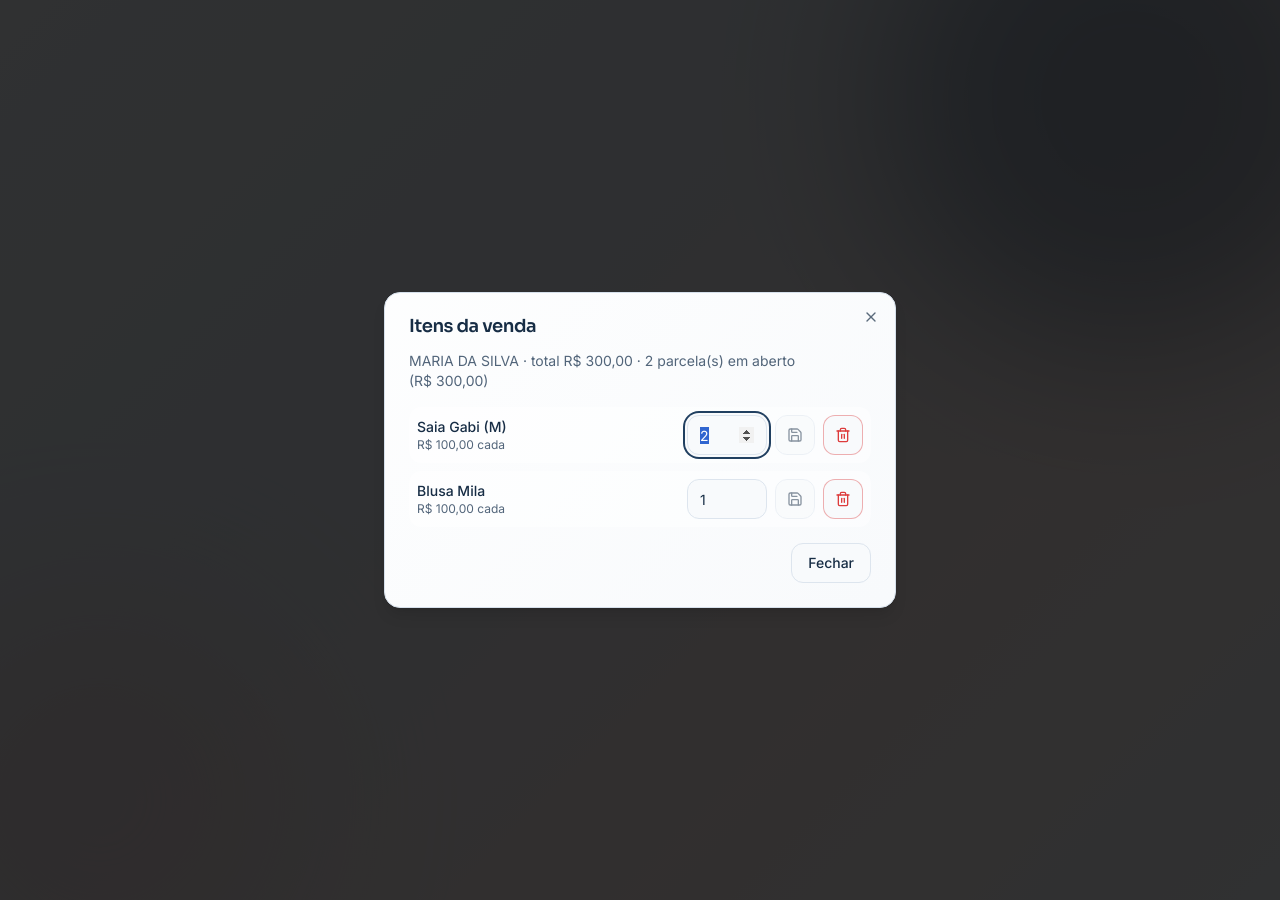
it: SaleItemsDialog (alterar / excluir item da venda) › mostra a prévia e altera a quantidade numa única chamada ao banco
Later steps or results of the test are not shown.
Check: the text "2 parcela(s) em aberto" is shown, box 409,352 -> 795,389
Replace the text in the number field named "Quantidade de Saia Gabi" with "1" at (727, 435), box 687,415 -> 767,455
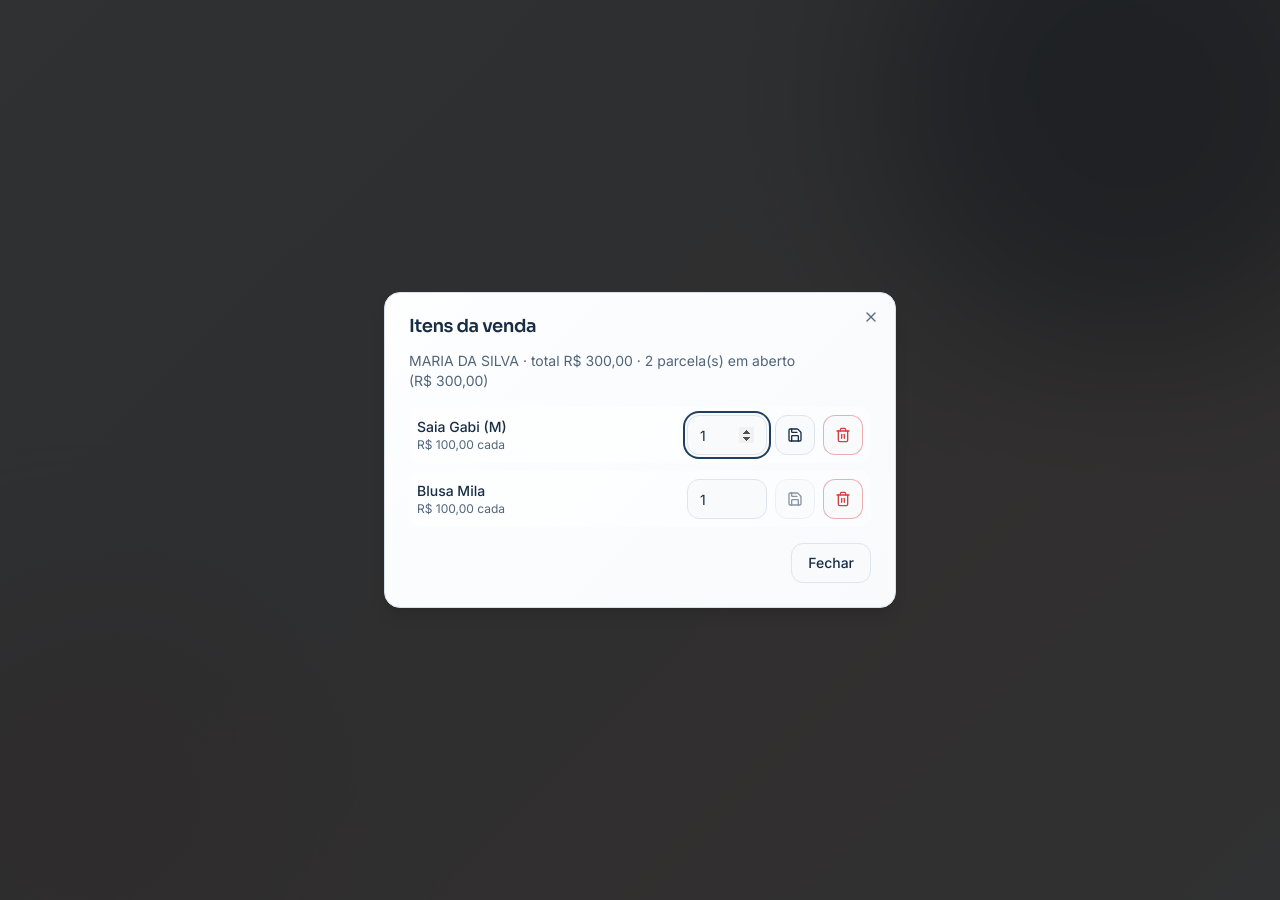
Click the button titled "Salvar quantidade" in the row of "(M)" at (795, 435), box 775,415 -> 815,455
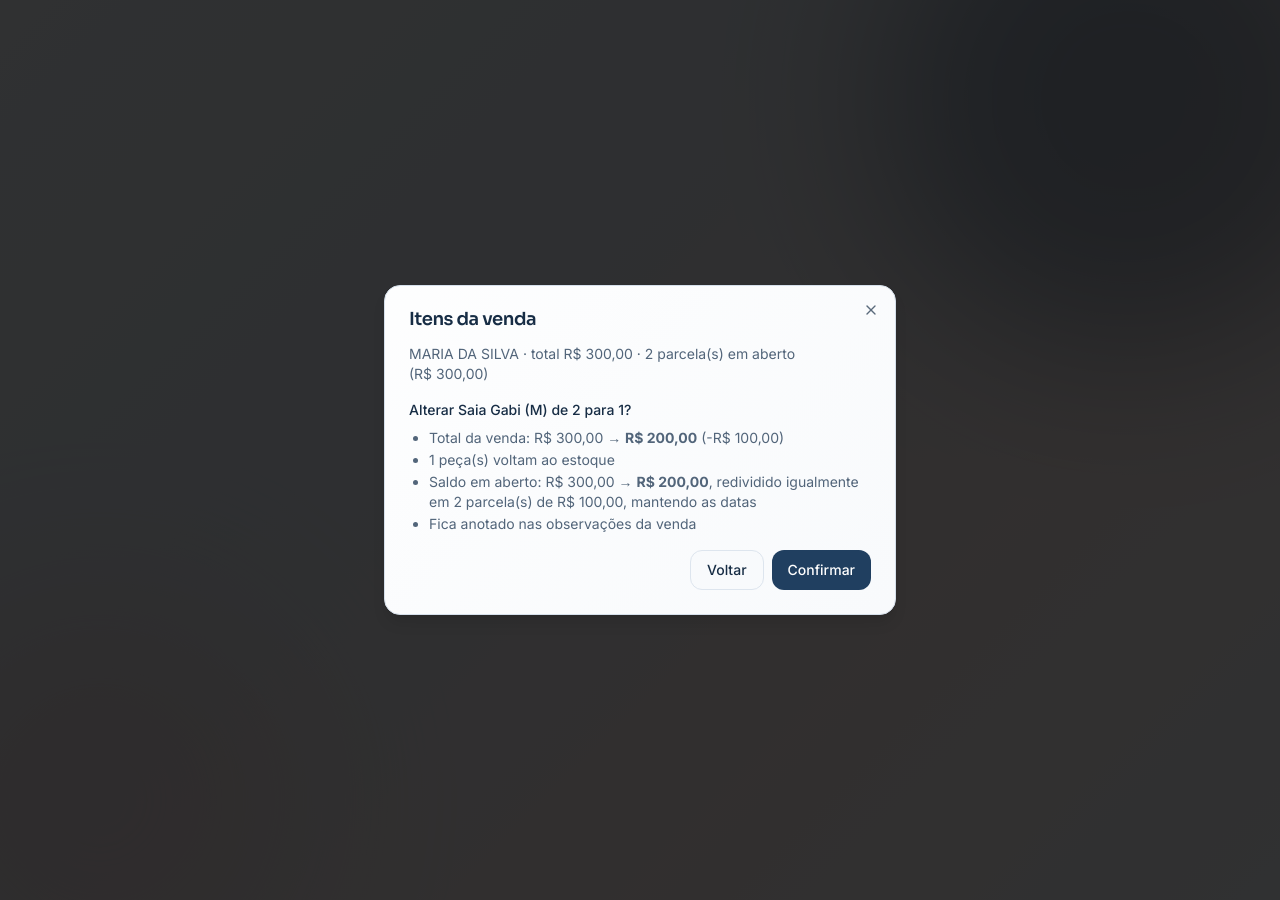
Check: the text "Alterar Saia Gabi (M) de 2 para 1?" is shown, box 409,401 -> 631,418
Check: the list item "1 peça(s) voltam ao estoque" is shown, box 429,451 -> 615,468
Check: the list item that starts with "Saldo em aberto:" is shown, box 429,472 -> 871,512
